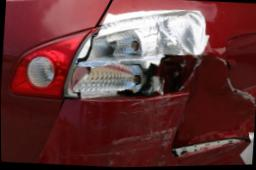Bumper: (30, 96, 253, 168)
Fender: (165, 51, 255, 151)
Light: (67, 7, 209, 102)
